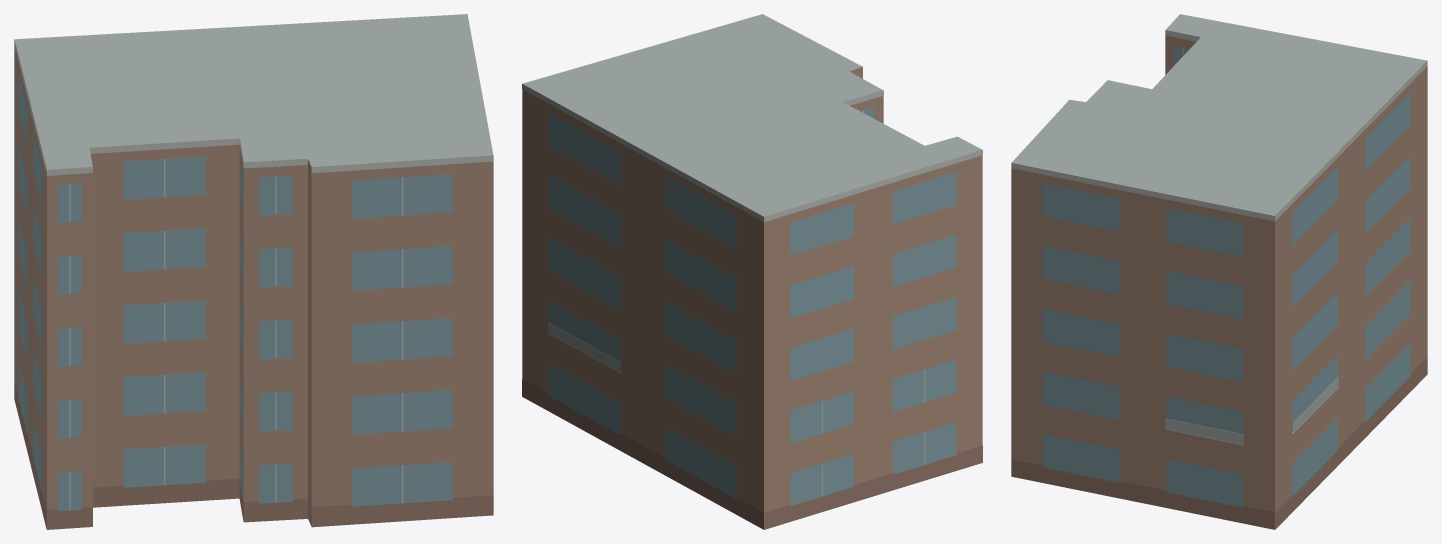
Rendered from survey-upis-32702276.glb.
3 renders of one model, left to right at view 1: azimuth 30°, elevation 25°; view 2: azimuth 150°, elevation 25°; view 3: azimuth 270°, elevation 25°, orthographic. The views are drawn at different scales.
Parts seen in each view (by area): view 1: survey-upis-32702276.tmp; view 2: survey-upis-32702276.tmp; view 3: survey-upis-32702276.tmp.
Part boxes in pixels (left/top/right/bottom): survey-upis-32702276.tmp: left=14, top=14, right=493, bottom=529; survey-upis-32702276.tmp: left=522, top=14, right=982, bottom=529; survey-upis-32702276.tmp: left=1011, top=14, right=1427, bottom=529.
Size of the model in its own units: 19.76 by 14.3 by 17.2.
